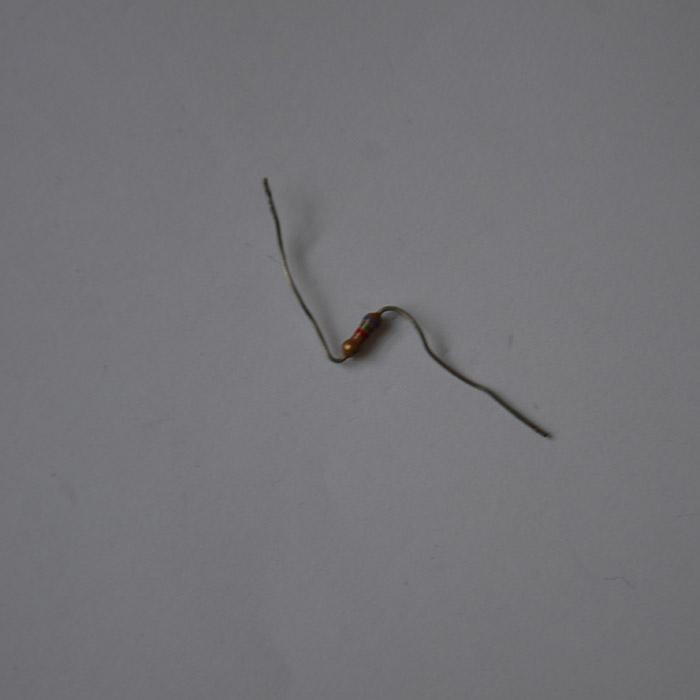resistor: (340, 310, 381, 358)
